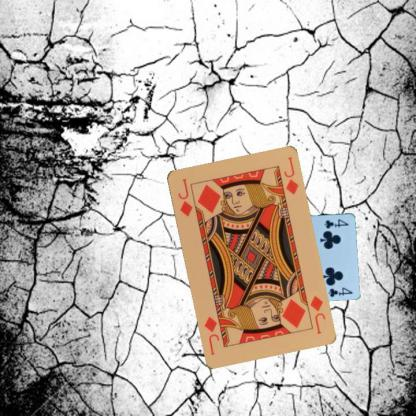4c: (322, 216, 349, 229)
Jd: (307, 292, 326, 335), (175, 176, 194, 218)
